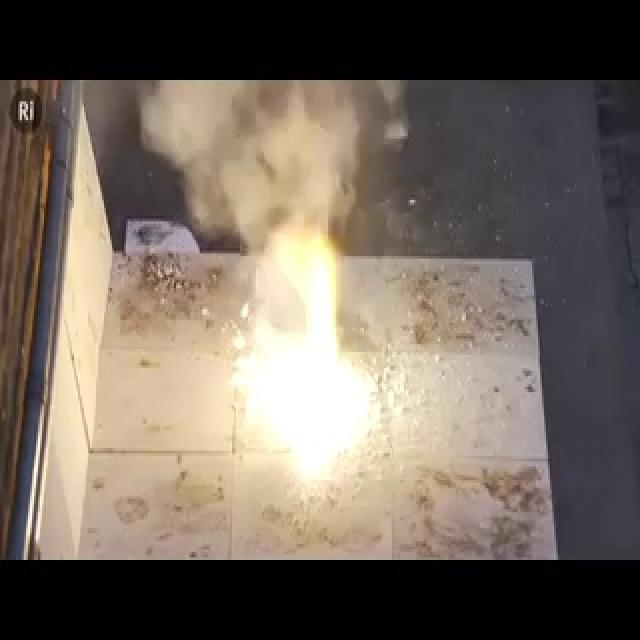Fire: (225, 233, 379, 480)
Smoke: (120, 85, 422, 243)
